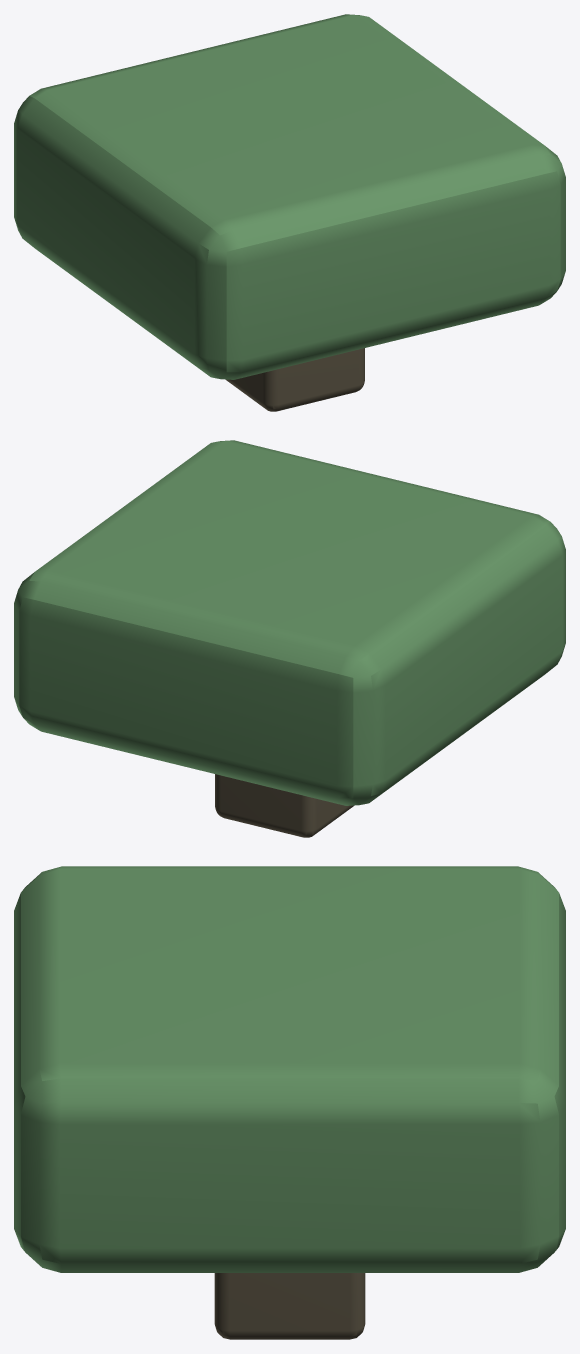
Rendered from Tree_001.fbx.
The picture shows the model from 3 angles, top to bottom: view 1: azimuth 30°, elevation 25°; view 2: azimuth 150°, elevation 25°; view 3: azimuth 270°, elevation 25°; orthographic projection. The views are drawn at different scales.
Parts seen in each view (by area): view 1: Tree_001; view 2: Tree_001; view 3: Tree_001.
Boxes of the visible parts, x1,y1,x2,y2 form: Tree_001: (14,14,565,411); Tree_001: (14,440,565,837); Tree_001: (14,866,565,1339).
Bounding box in the file's own units: 0.8977 × 0.6219 × 0.8977.
